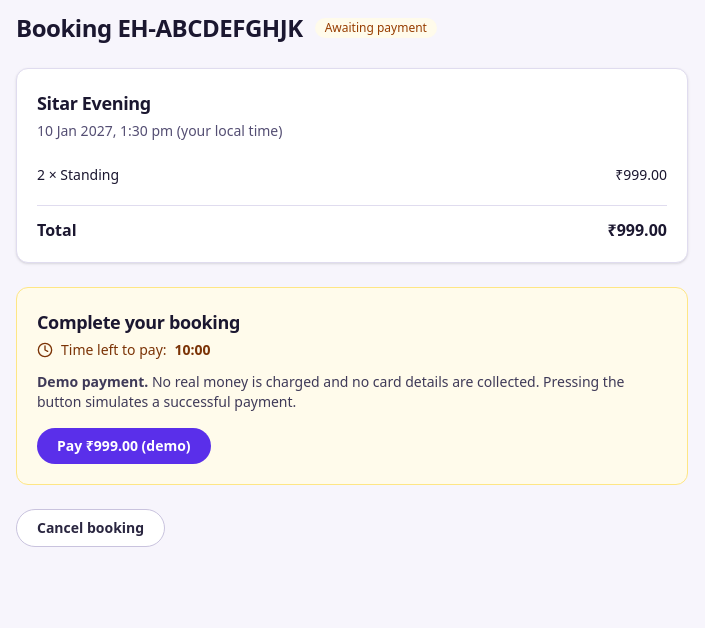
Scenario: BookingPage › cancels only after a second, explicit confirmation
This screenshot has width=705, height=628.
Click the button "Cancel booking": (91, 528) [16,509,165,547]
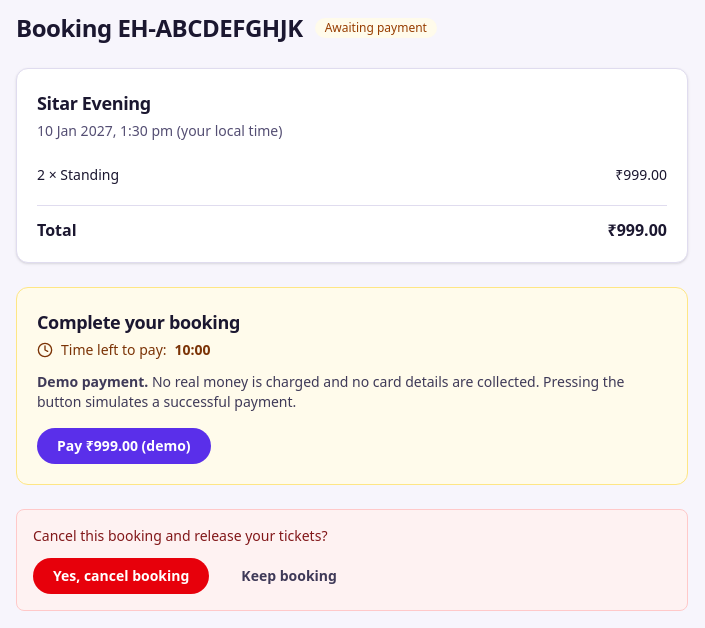
Click the button "Yes, cancel booking": (121, 576) [33,558,209,594]
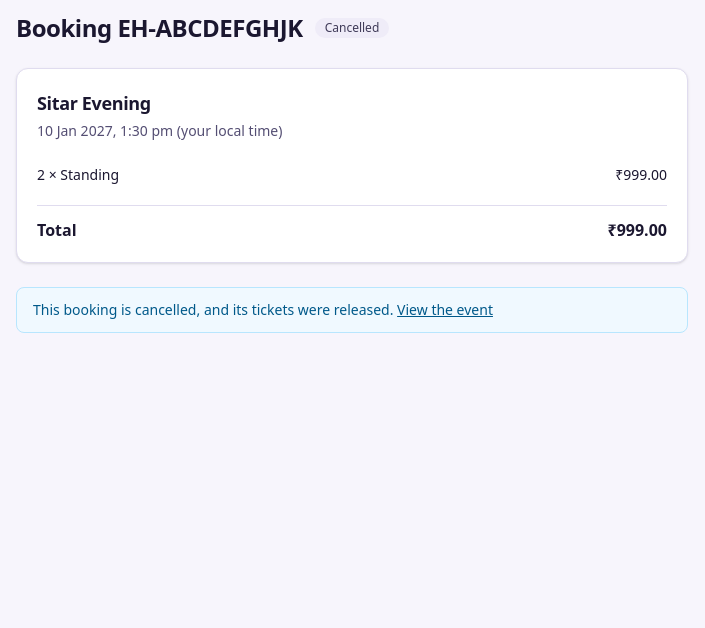
Expected: the text "Cancelled" is shown, [315,18,389,38]
